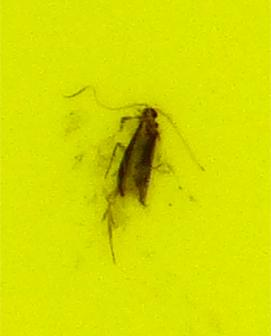Lepidoptera: (100, 100, 171, 236)
